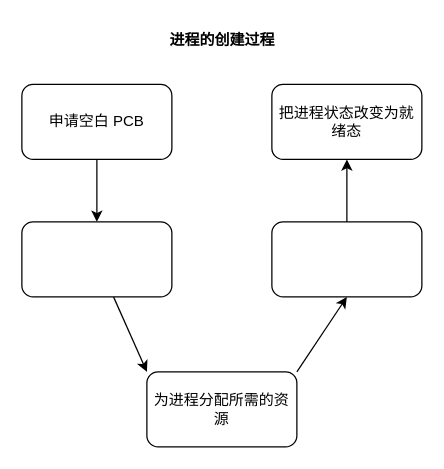
This 444x469 diagram has some shape labels left out. The centre of each missing label's shape, as x and y in pixels:
向 PCB 中填写用于控制和管理进程的信息: the point at 96,259
把进程插入就绪队列之中: the point at 346,259
